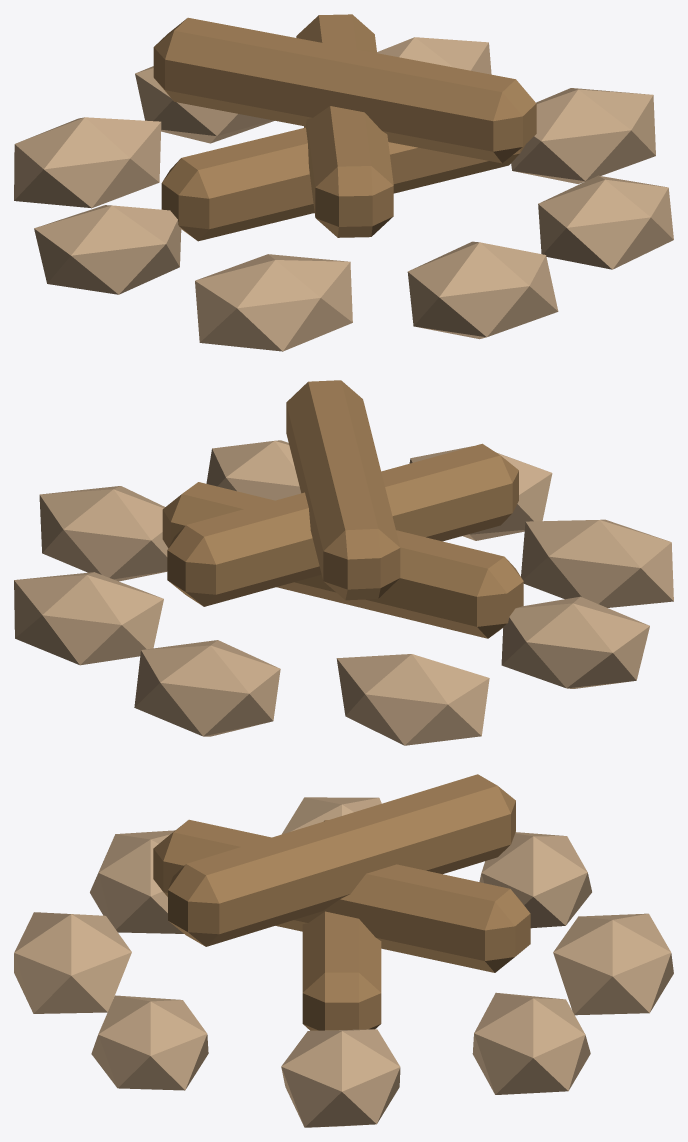
The model's file is enfeite_fogueira.glb.
3 renders of one model, top to bottom at view 1: azimuth 30°, elevation 25°; view 2: azimuth 150°, elevation 25°; view 3: azimuth 270°, elevation 25°, orthographic. The views are drawn at different scales.
Parts seen in each view (by area): view 1: deserto_enfeite_fogueira; view 2: deserto_enfeite_fogueira; view 3: deserto_enfeite_fogueira.
Part boxes in pixels (x1,y1,x2,y2): deserto_enfeite_fogueira: (14,14,673,351); deserto_enfeite_fogueira: (14,380,673,745); deserto_enfeite_fogueira: (14,774,673,1127).
Bounding box in the file's own units: 0.624 × 0.1841 × 0.5853.
